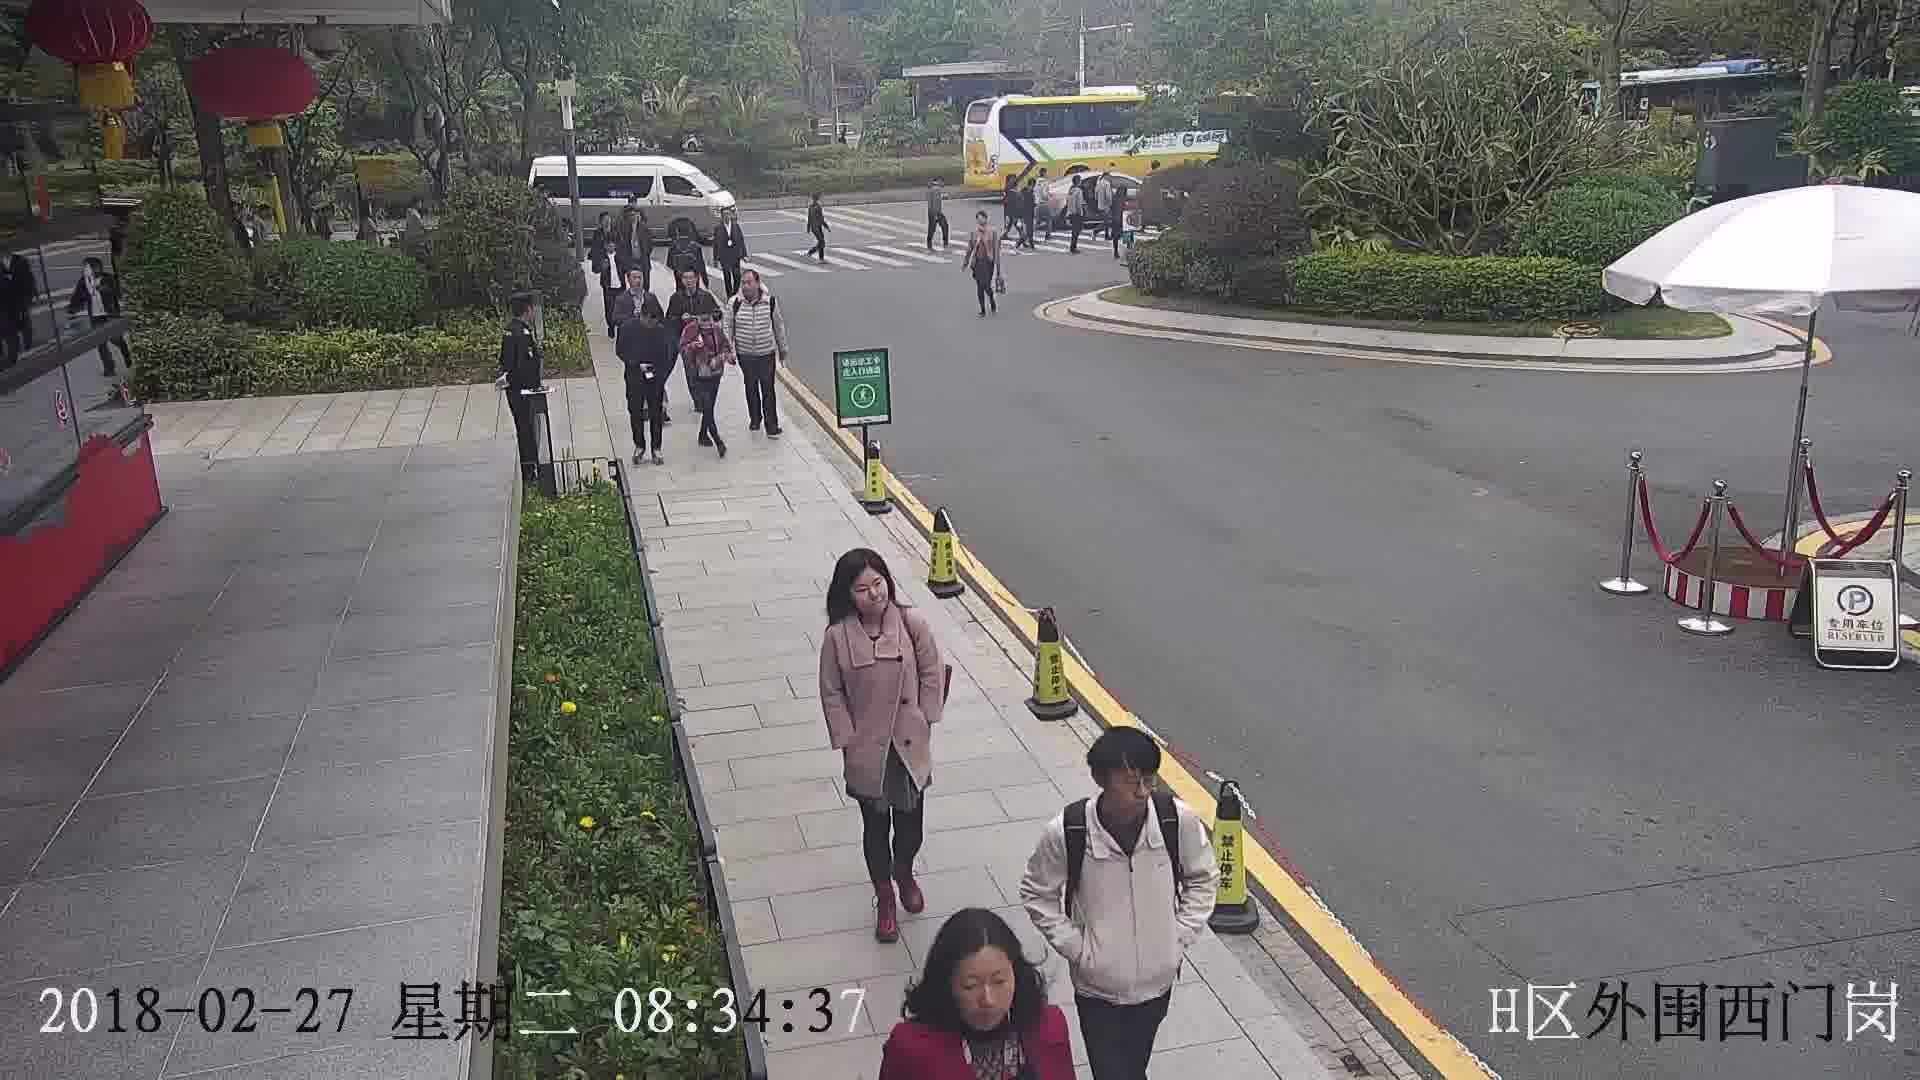face: (941, 946, 1027, 1032), (1101, 761, 1156, 816), (844, 559, 896, 619)
person: (886, 906, 1081, 1065), (1041, 726, 1199, 867), (815, 546, 929, 660), (620, 295, 670, 341), (504, 292, 544, 346), (614, 260, 659, 306), (671, 260, 717, 305), (730, 268, 778, 307), (712, 202, 742, 233), (620, 195, 648, 230), (969, 209, 997, 239), (591, 207, 615, 239), (925, 172, 946, 198), (1066, 173, 1088, 193), (1018, 174, 1037, 198), (1004, 175, 1021, 201), (806, 188, 827, 209), (1112, 184, 1131, 205), (1099, 168, 1115, 188), (1036, 166, 1051, 187)
